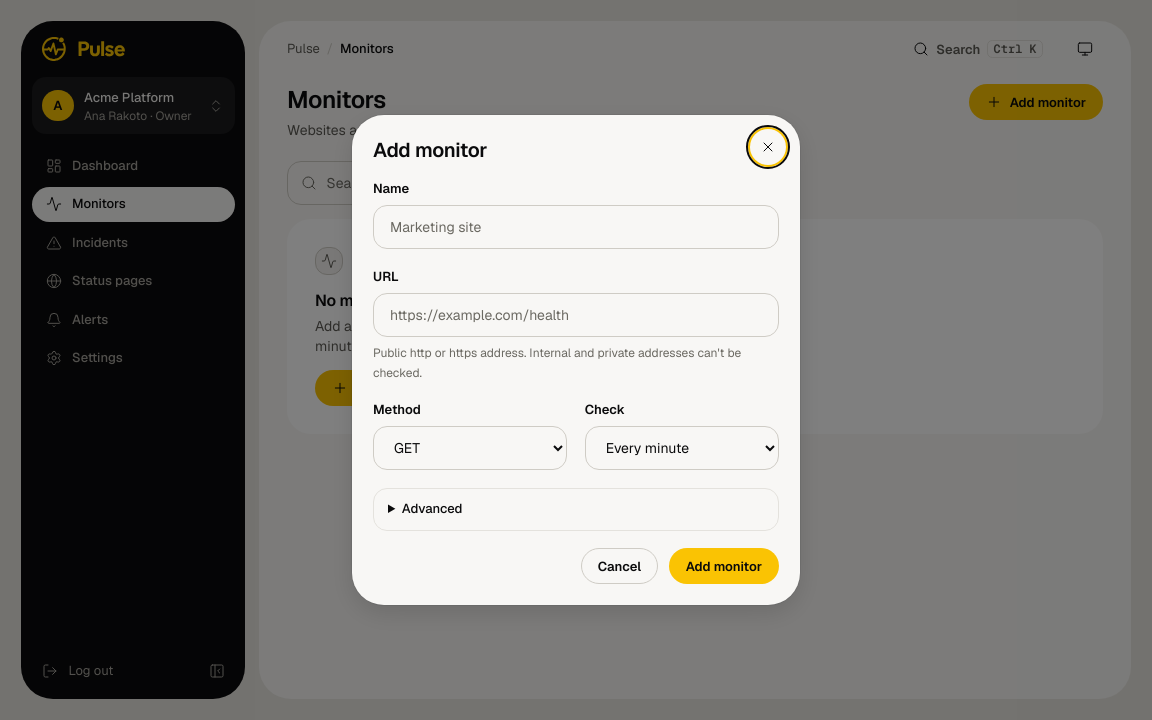
Test case: Monitors list (signed in) › checks the form before sending anything
Click the button "Add monitor" at x=724, y=566, box left=669, top=548, right=779, bottom=584
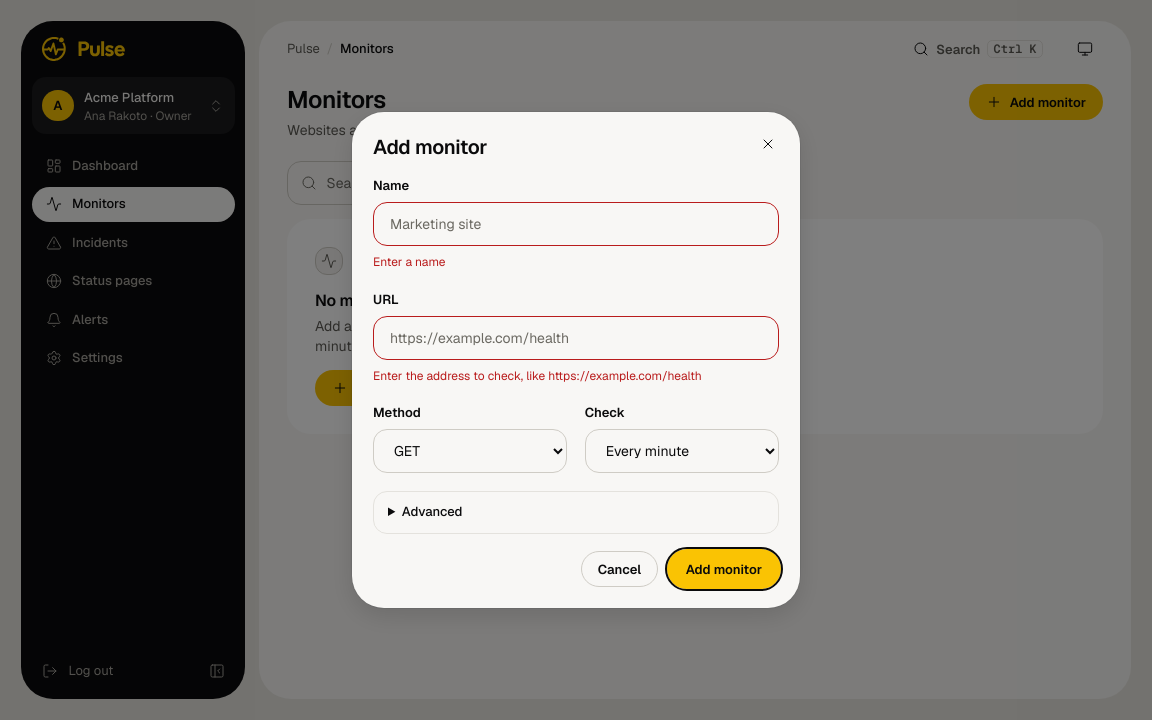
Now the text "Enter a name" is shown, box left=373, top=254, right=446, bottom=270
Now the text "Enter the address to check, like https://example.com/health" is shown, box left=373, top=368, right=702, bottom=384
